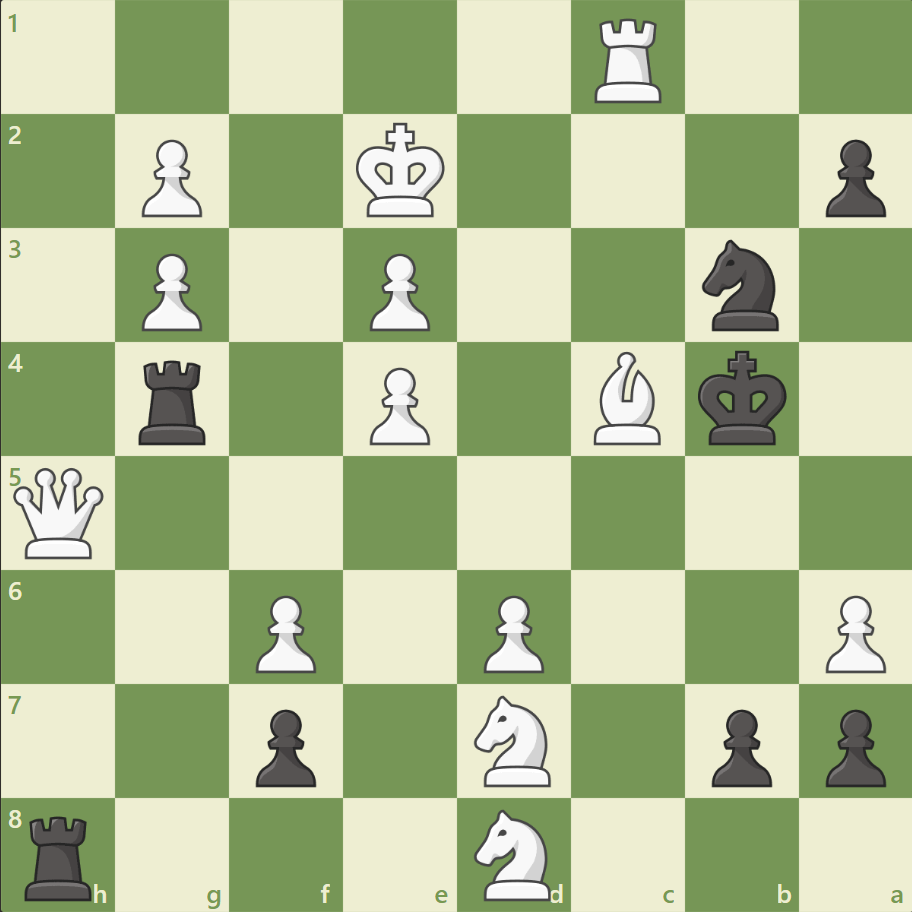B: (585, 347, 669, 449)
K: (351, 117, 451, 225)
N: (465, 688, 562, 791), (465, 802, 562, 904)
P: (474, 586, 549, 677), (247, 586, 322, 677), (133, 246, 208, 337), (133, 132, 208, 223), (815, 586, 889, 677), (361, 359, 435, 450), (361, 246, 435, 337)
Q: (10, 463, 109, 562)
R: (587, 12, 670, 109)
k: (692, 344, 792, 452)
n: (692, 234, 789, 337)
p: (701, 700, 776, 791), (247, 700, 322, 791), (815, 700, 889, 791), (815, 132, 889, 223)
r: (19, 806, 102, 904), (133, 352, 215, 449)
